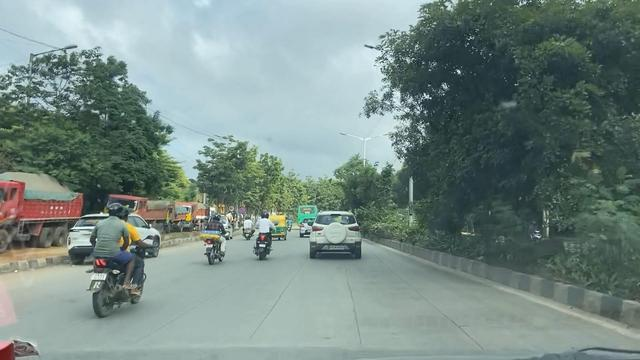HMV: (0, 171, 103, 254)
LMV: (89, 197, 153, 320), (301, 205, 365, 264), (245, 184, 282, 275), (196, 207, 231, 266)
